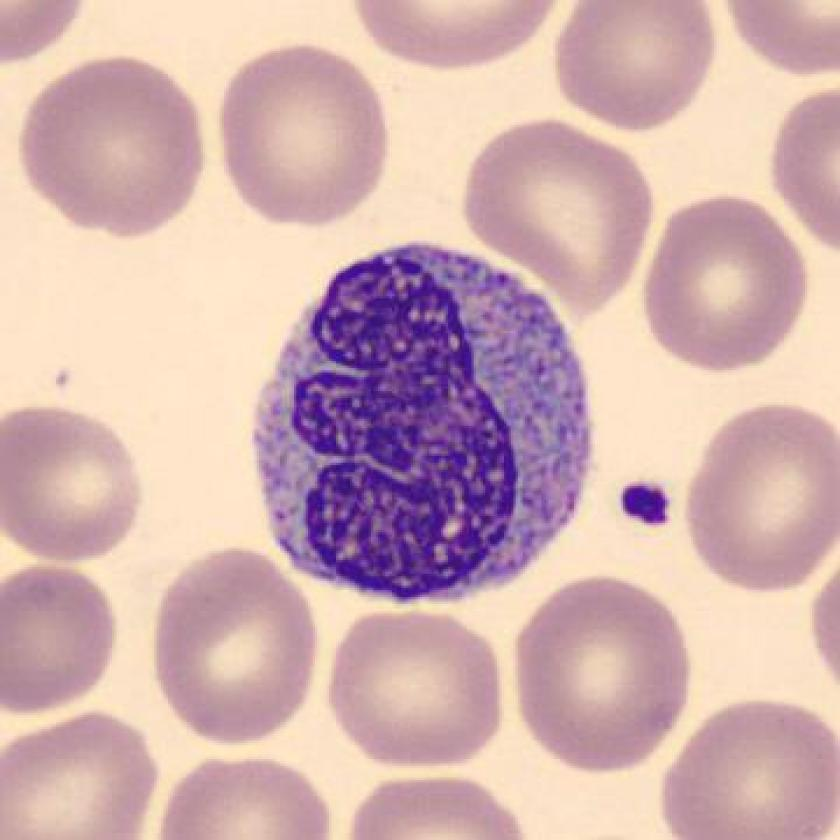monocyte: (230, 216, 619, 633)
